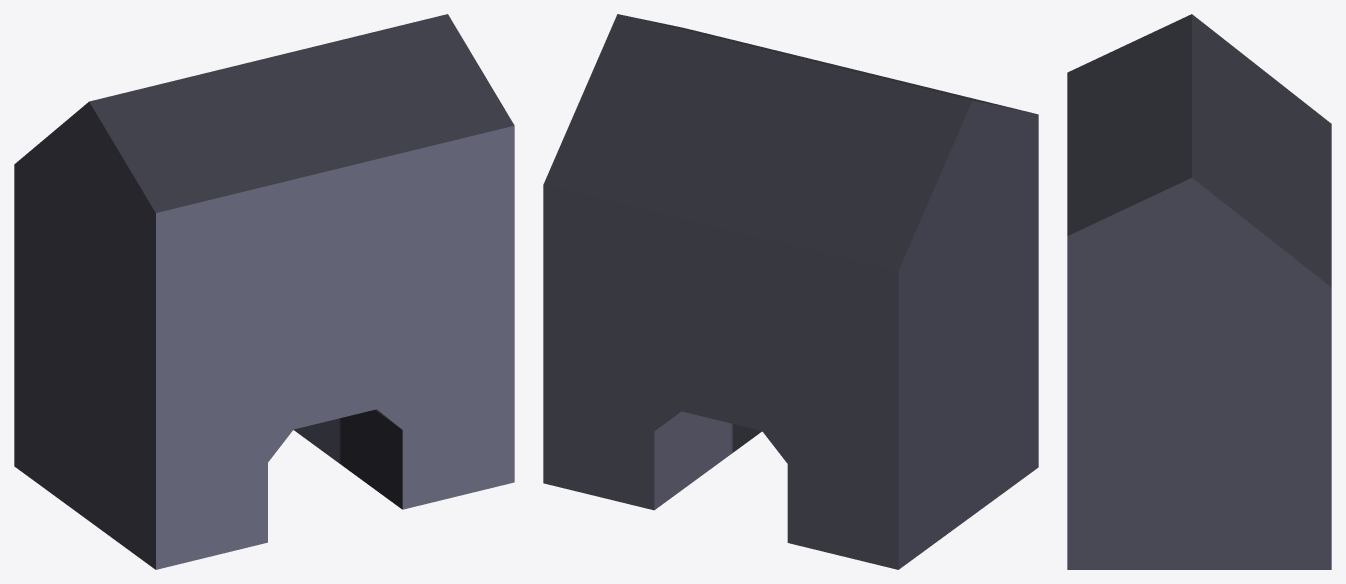
The model's file is Building_02_Passage.fbx.
3 renders of one model, left to right at view 1: azimuth 30°, elevation 25°; view 2: azimuth 150°, elevation 25°; view 3: azimuth 270°, elevation 25°, orthographic. The views are drawn at different scales.
Parts seen in each view (by area): view 1: Building_02_Passage; view 2: Building_02_Passage; view 3: Building_02_Passage.
Boxes of the visible parts, bbox=[...] form: Building_02_Passage: bbox=[14, 14, 514, 569]; Building_02_Passage: bbox=[543, 14, 1038, 569]; Building_02_Passage: bbox=[1067, 14, 1331, 569].
Bounding box in the file's own units: 110 × 122 × 74.81.
